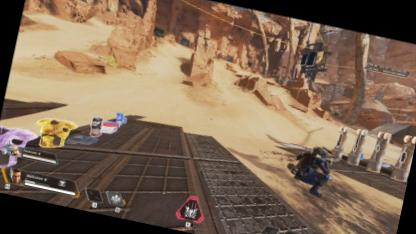Target: (287, 140, 336, 199)
